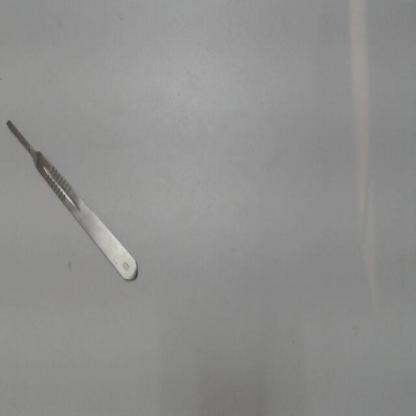No.4 BP Handle: (2, 112, 142, 288)
